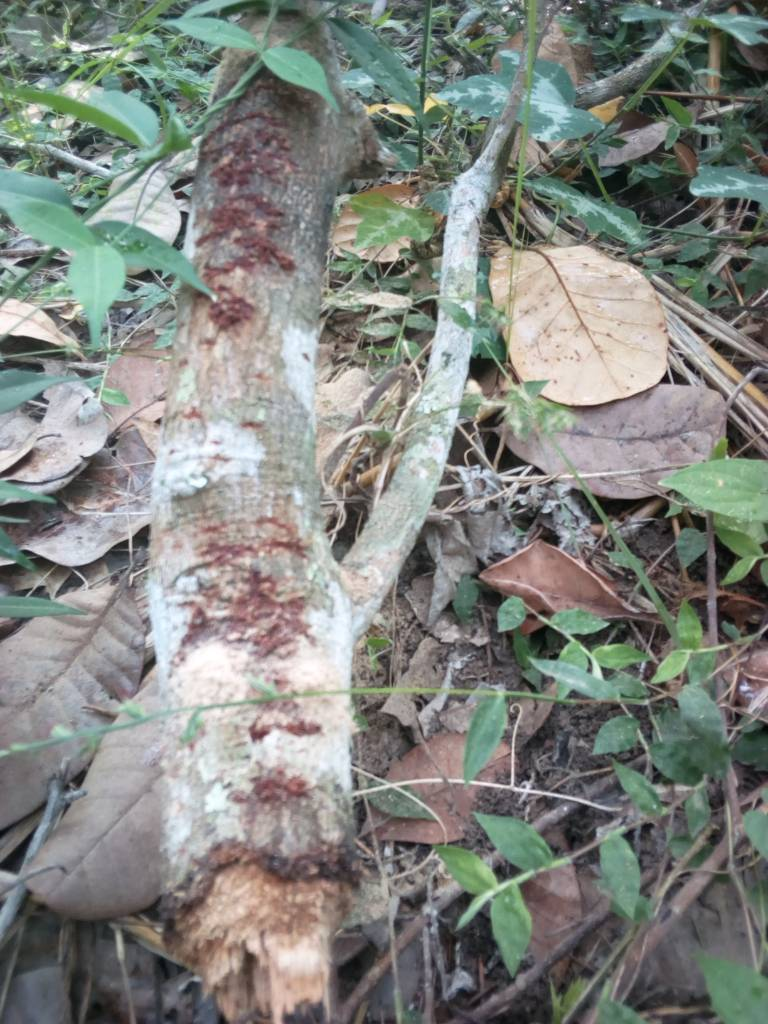Analepse trifasciata: (152, 842, 405, 1024)
